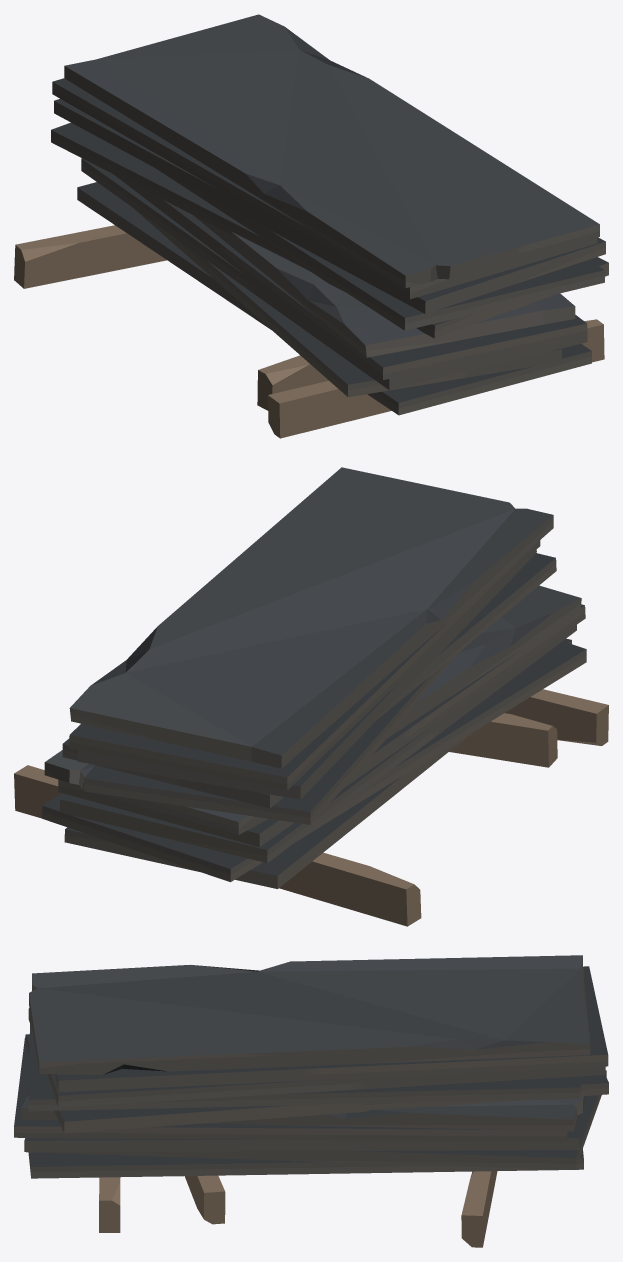
The model's file is SM_Prop_Junk_Stack_08.glb.
3 views of the same model, one above another, from view 1: azimuth 30°, elevation 25°; view 2: azimuth 150°, elevation 25°; view 3: azimuth 270°, elevation 25° (orthographic). The views are drawn at different scales.
Visible parts, largest first — view 1: SM_Prop_Junk_Stack_08; view 2: SM_Prop_Junk_Stack_08; view 3: SM_Prop_Junk_Stack_08.
Part boxes in pixels (x1=…): SM_Prop_Junk_Stack_08: x1=14, y1=14, x2=608, y2=438; SM_Prop_Junk_Stack_08: x1=14, y1=467, x2=608, y2=926; SM_Prop_Junk_Stack_08: x1=14, y1=955, x2=608, y2=1247.
Bounding box in the file's own units: 2.41 × 0.9945 × 3.4.
1 material, 1 textured.
